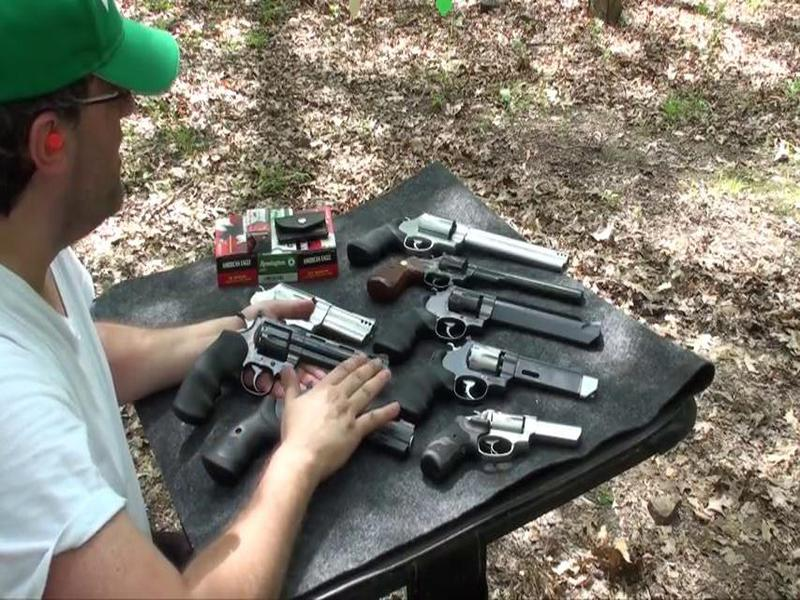Revolver: (181, 306, 370, 427)
